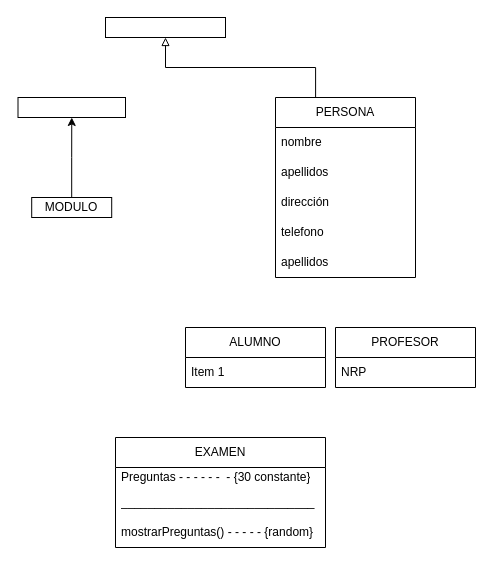
This 493x565 diagram has some shape labels left out. Each missing label, with the centre of its shape:
"CICLO FORMATIVO" goes at (x=165, y=27).
"COMPETENCIAS" goes at (x=71, y=107).
